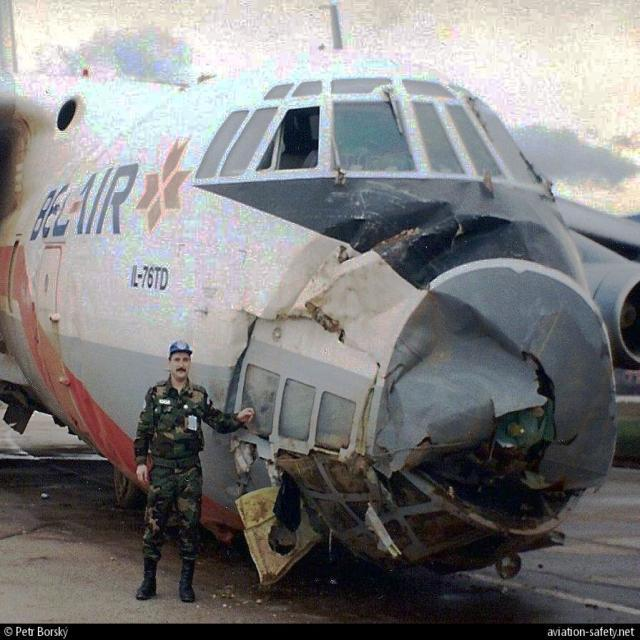dent: (332, 213, 522, 262)
